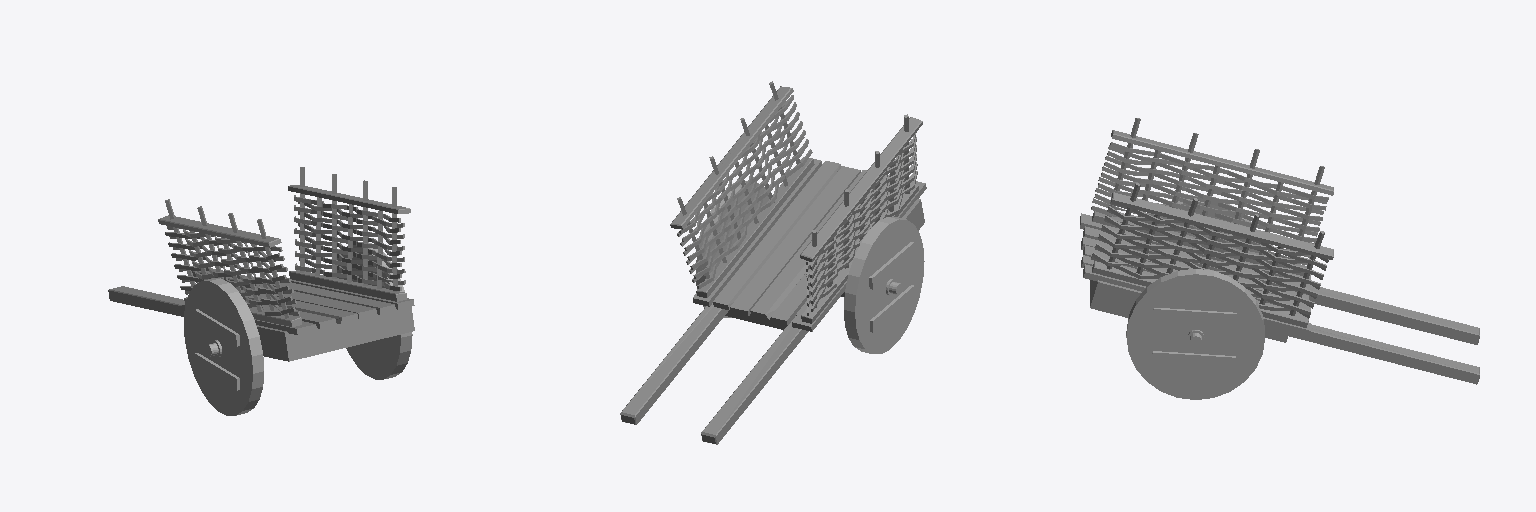
File: carreta.obj
3 renders of one model, left to right at view 1: azimuth 30°, elevation 25°; view 2: azimuth 150°, elevation 25°; view 3: azimuth 270°, elevation 25°, orthographic.
Parts seen in each view (by area): view 1: object2, object9, object3, object5, object8, object4, object1, object6, object7; view 2: object5, object9, object2, object3, object8, object6, object1, object7; view 3: object9, object2, object3, object5, object8, object1, object6.
Boxes of the visible parts, <box> form: object2: <box>184,242,412,415</box>; object9: <box>165,195,405,315</box>; object3: <box>108,186,397,361</box>; object5: <box>110,185,413,332</box>; object8: <box>165,167,397,318</box>; object4: <box>269,209,414,361</box>; object1: <box>195,309,239,390</box>; object6: <box>184,208,409,326</box>; object7: <box>297,300,414,334</box>; object5: <box>622,86,925,434</box>; object9: <box>677,95,917,315</box>; object2: <box>696,181,924,353</box>; object3: <box>620,88,926,444</box>; object8: <box>677,81,909,307</box>; object6: <box>670,118,918,323</box>; object1: <box>869,242,914,332</box>; object7: <box>693,289,811,331</box>; object9: <box>1091,142,1328,318</box>; object2: <box>1126,199,1264,399</box>; object3: <box>1080,135,1479,384</box>; object5: <box>1081,130,1478,372</box>; object8: <box>1107,118,1324,315</box>; object1: <box>1152,308,1236,368</box>; object6: <box>1092,130,1333,321</box>.
Size of the model in its own units: 1.1 by 1.24 by 2.13.